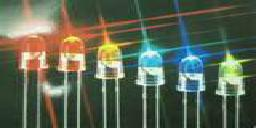LED: (13, 30, 52, 125), (57, 34, 88, 128), (94, 42, 124, 128), (133, 51, 166, 128), (175, 55, 206, 128), (216, 57, 247, 128)
